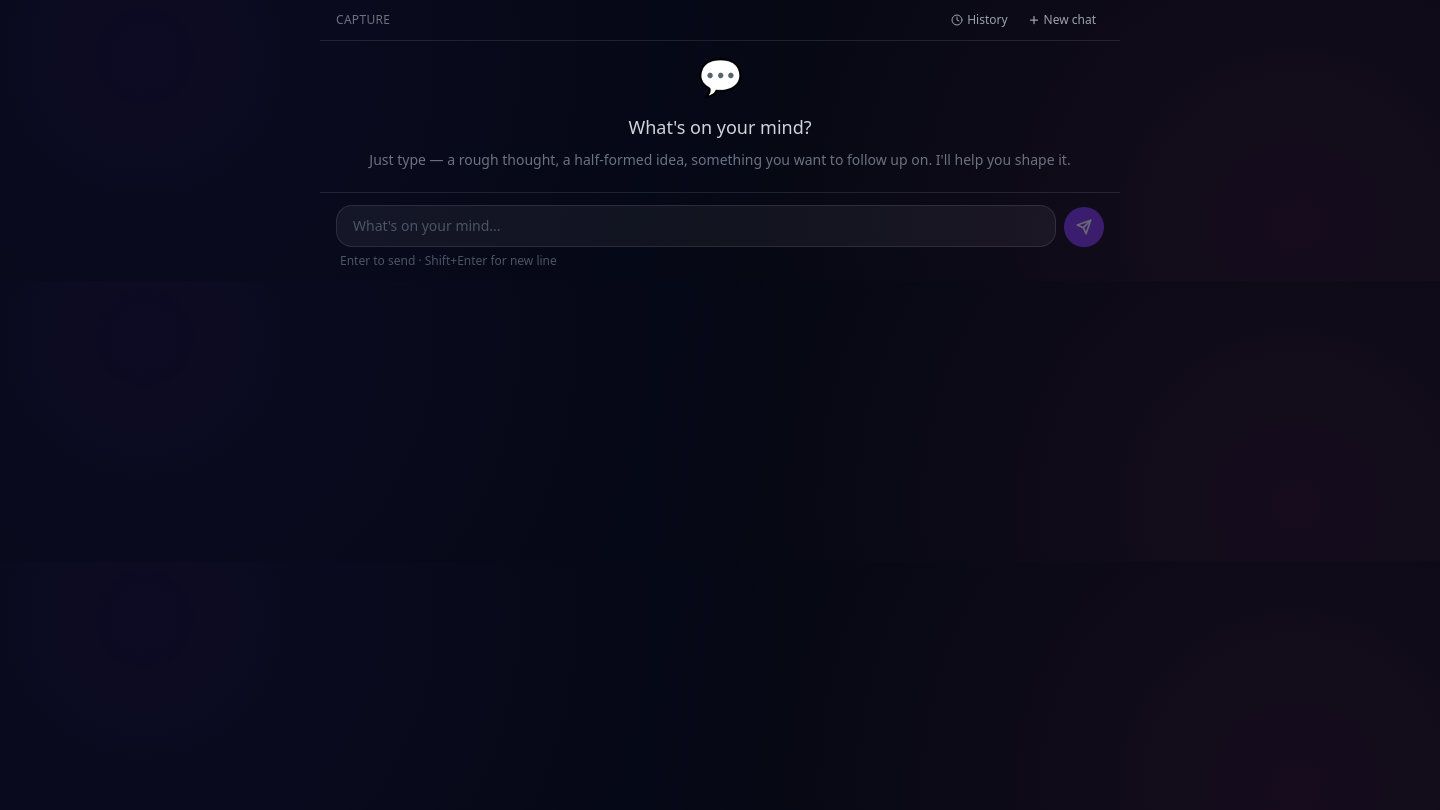
Test case: CaptureChat slash command execution › /area switches to a matching area
Type "/area Work" into the text box with placeholder "What's on your mind..." at (696, 226), box [336,205,1056,247]
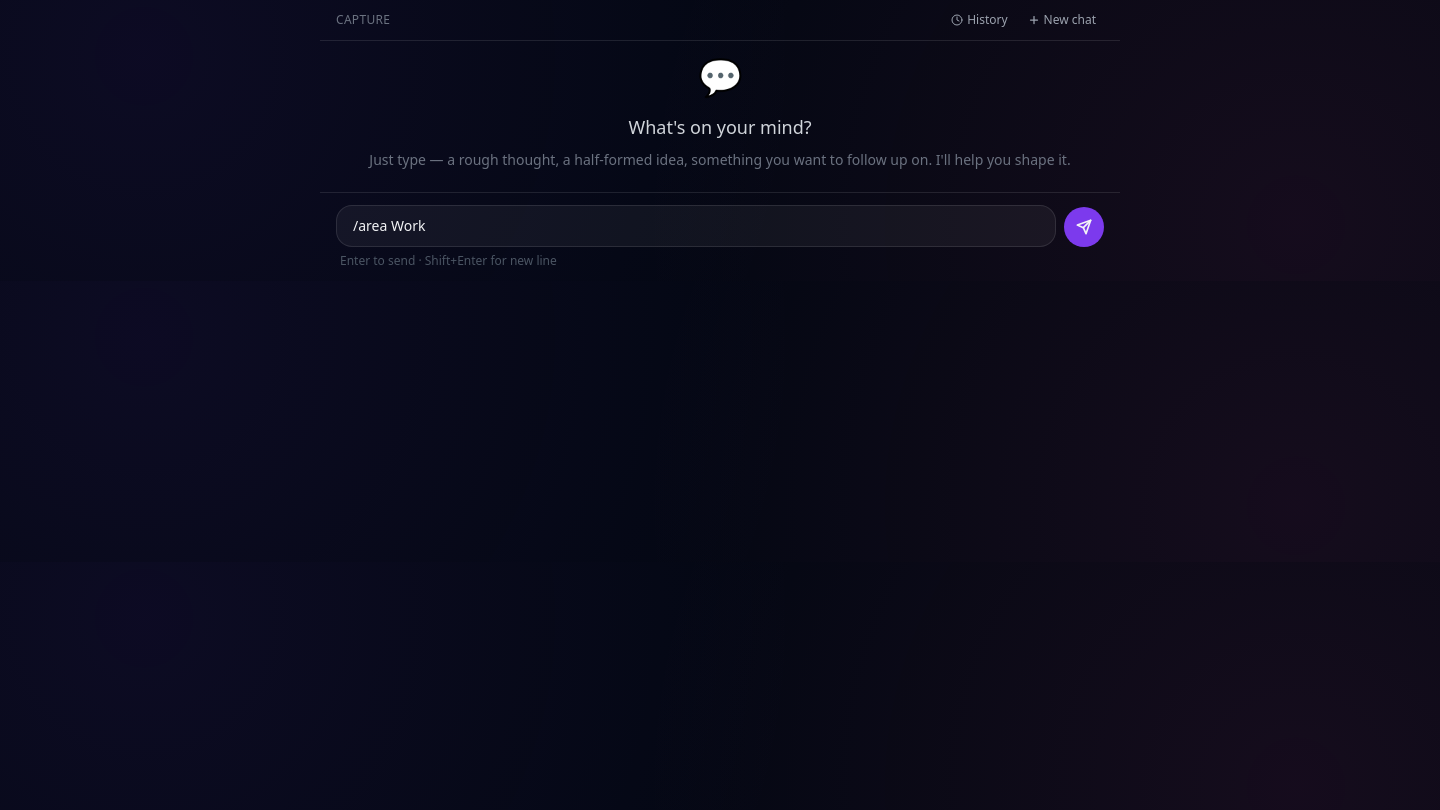
Press Enter in the text box with placeholder "What's on your mind...", box [336,205,1056,247]
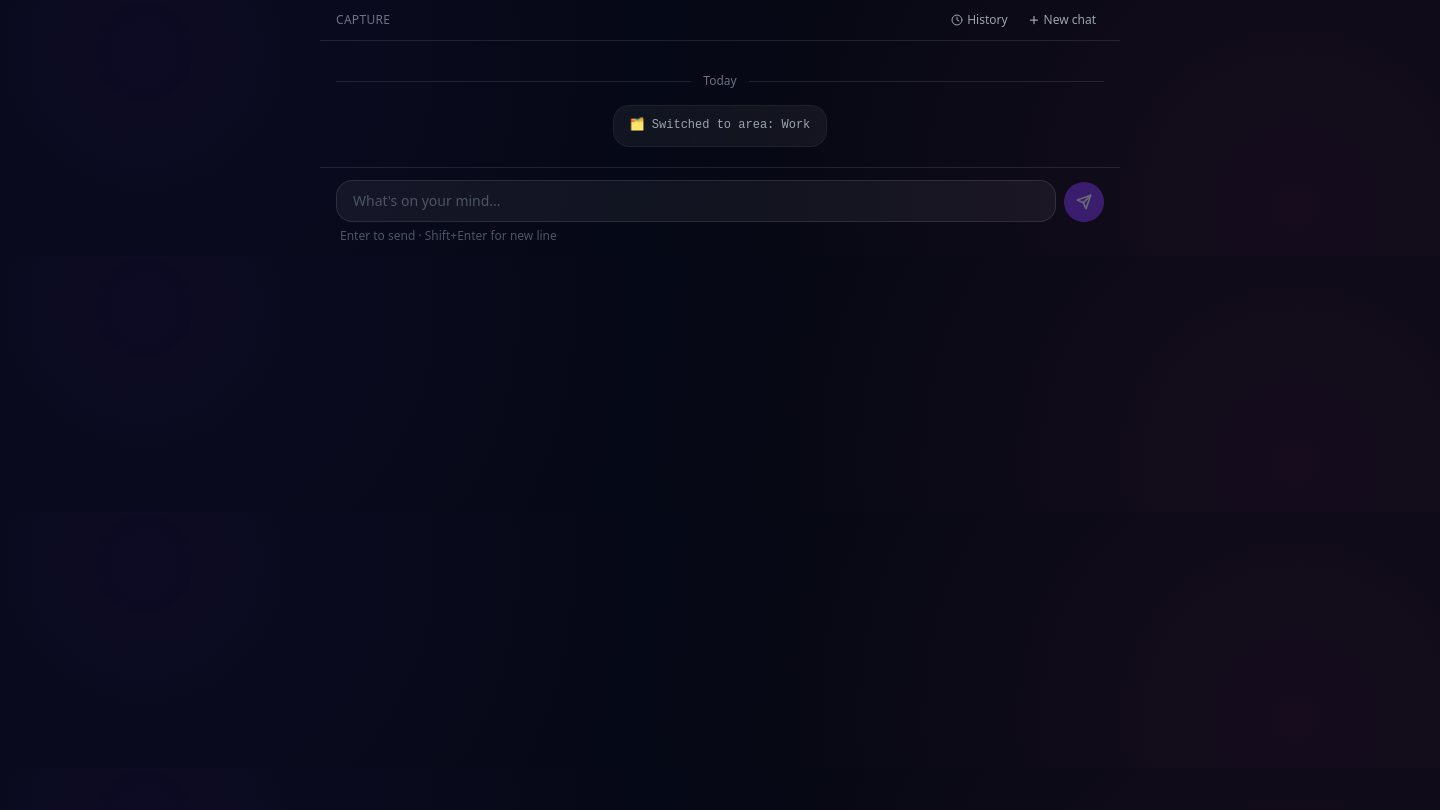
Expected: the text "🗂️ Switched to area: Work" is shown, [613,105,827,146]
